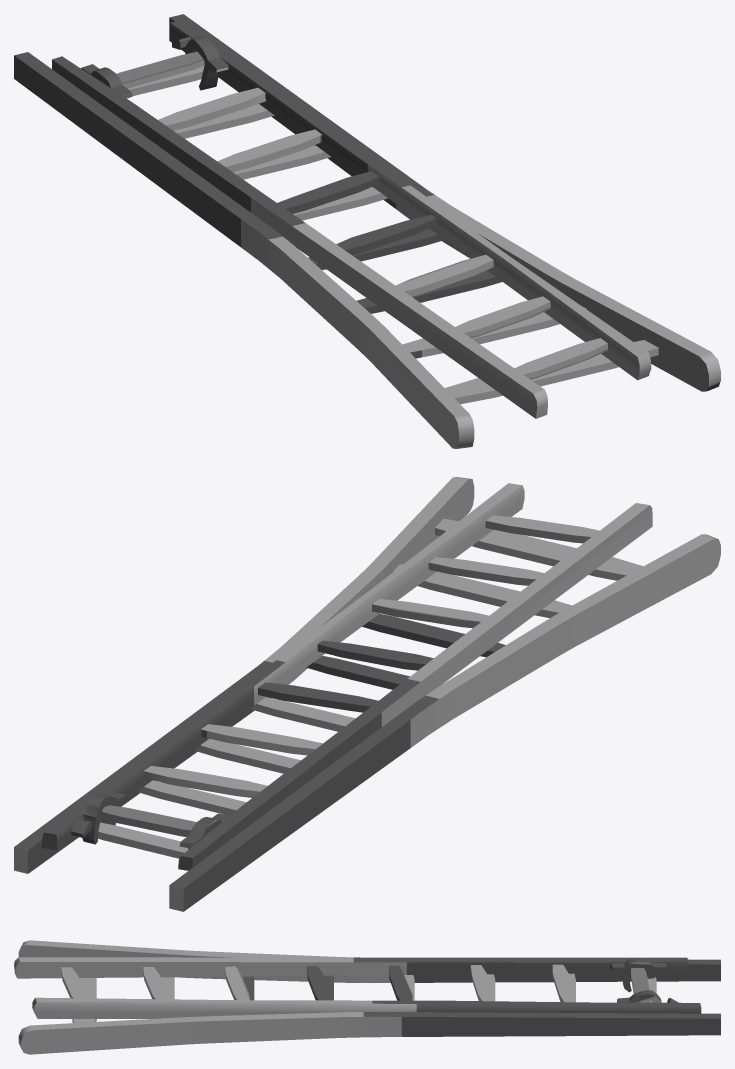
Rendered from SM_echelle.fbx.
3 views of the same model, one above another, from view 1: azimuth 30°, elevation 25°; view 2: azimuth 150°, elevation 25°; view 3: azimuth 270°, elevation 25° (orthographic). The views are drawn at different scales.
Visible parts, largest first — view 1: SM_echelle; view 2: SM_echelle; view 3: SM_echelle.
Part boxes in pixels (x1=…): SM_echelle: x1=14, y1=14, x2=720, y2=448; SM_echelle: x1=14, y1=477, x2=720, y2=911; SM_echelle: x1=14, y1=940, x2=720, y2=1054.
Size of the model in its own units: 1.38 by 0.247 by 4.52.
1 material, 1 textured.
